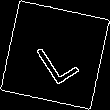L_NW: (28, 25, 82, 85)
